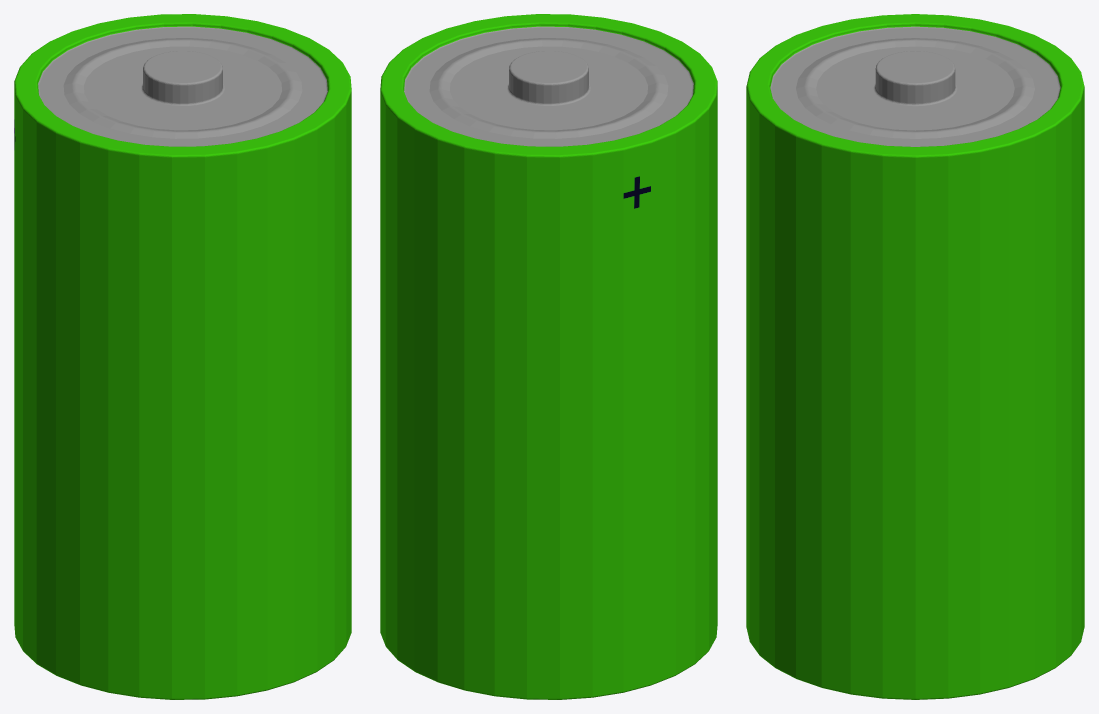
File: battery.glb
3 views of the same model, side by side, from view 1: azimuth 30°, elevation 25°; view 2: azimuth 150°, elevation 25°; view 3: azimuth 270°, elevation 25° (orthographic).
Visible parts, largest first — view 1: Battery; view 2: Battery; view 3: Battery.
Part boxes in pixels (x1,y1,x2,y2): Battery: (14,14,351,699); Battery: (380,14,717,699); Battery: (746,14,1084,699).
Size of the model in its own units: 2 by 3.67 by 2.
Materials: 1 (1 with a texture image).
